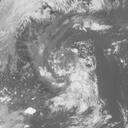cyclone: (44, 40, 97, 101)
